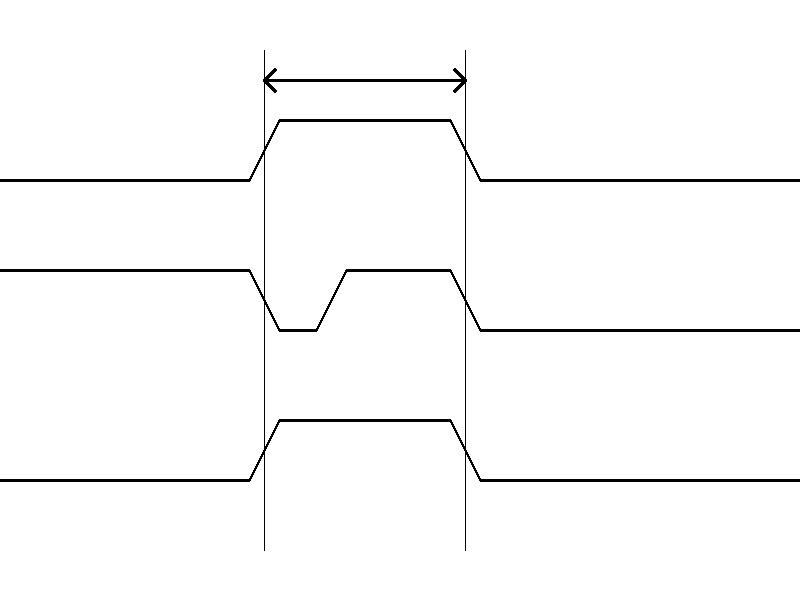double_arrow: (264, 65, 465, 95)
